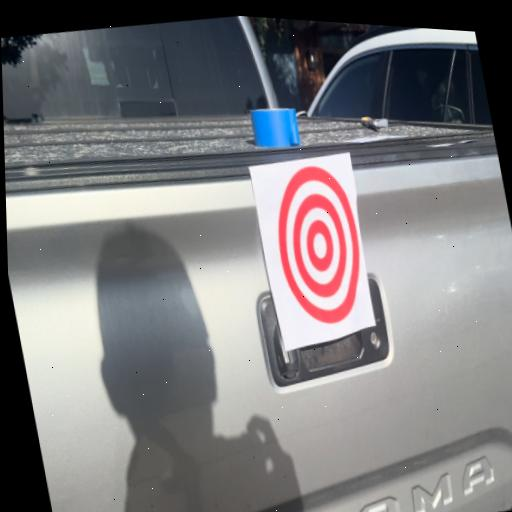bullseye: (263, 158, 374, 334)
